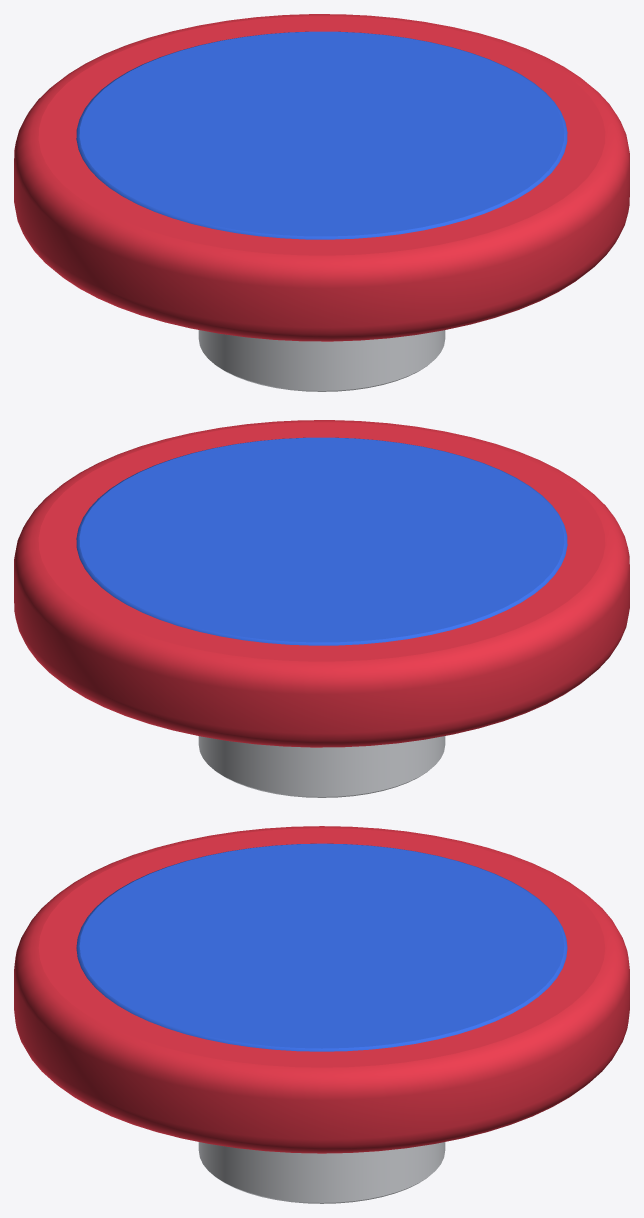
Rendered from SD_PadHead_R150.fbx.
3 views of the same model, one above another, from view 1: azimuth 30°, elevation 25°; view 2: azimuth 150°, elevation 25°; view 3: azimuth 270°, elevation 25° (orthographic).
Visible parts, largest first — view 1: PadHead_R150; view 2: PadHead_R150; view 3: PadHead_R150.
Part boxes in pixels (x1=…): PadHead_R150: x1=14, y1=14, x2=629, y2=391; PadHead_R150: x1=14, y1=420, x2=629, y2=797; PadHead_R150: x1=14, y1=826, x2=629, y2=1203.
Size of the model in its own units: 3 by 1.11 by 3.
